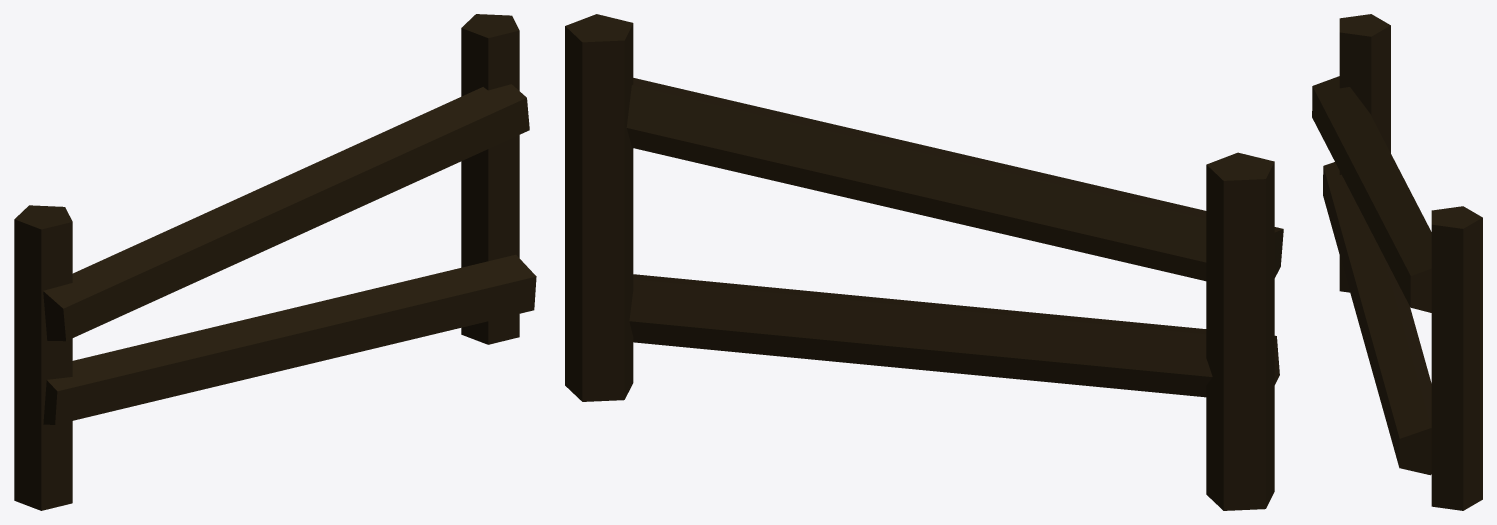
File: fence_01.fbx
3 views of the same model, side by side, from view 1: azimuth 30°, elevation 25°; view 2: azimuth 150°, elevation 25°; view 3: azimuth 270°, elevation 25° (orthographic). The views are drawn at different scales.
Visible parts, largest first — view 1: Fence; view 2: Fence; view 3: Fence.
Part boxes in pixels (<box>): Fence: <box>14,14,536,510</box>; Fence: <box>565,14,1283,510</box>; Fence: <box>1312,14,1482,510</box>.
Bounding box in the file's own units: 292 × 161 × 85.85.
